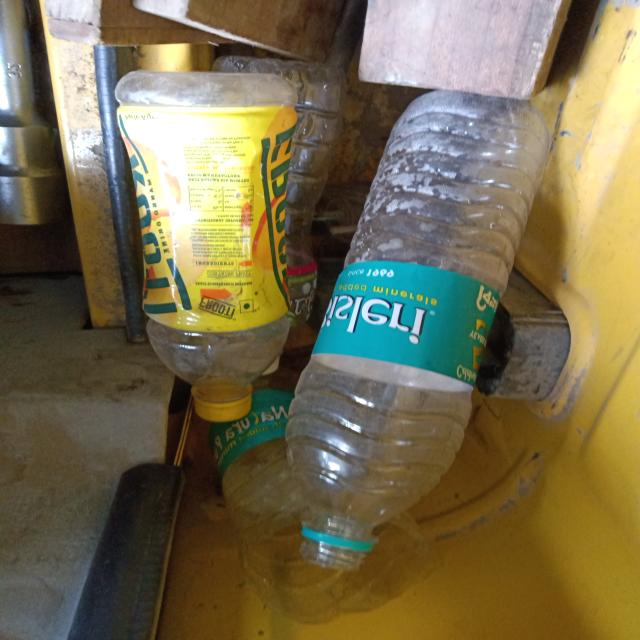bottle: (281, 97, 564, 577), (108, 63, 303, 432), (179, 352, 418, 637)
